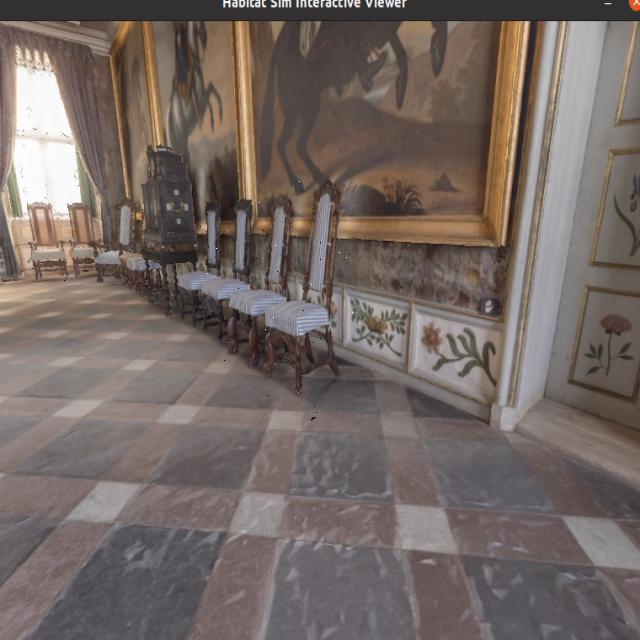chair: (259, 170, 353, 419), (222, 189, 301, 381), (195, 199, 266, 370), (20, 197, 67, 291)
